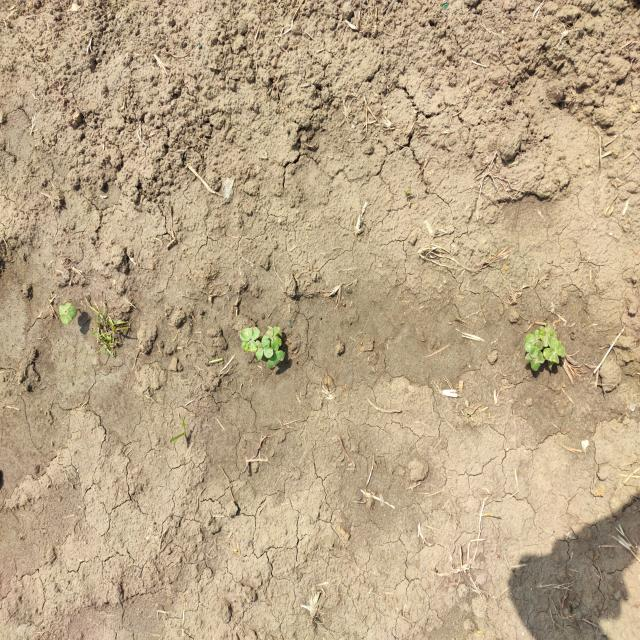seedling: (547, 336, 566, 357), (267, 350, 284, 368), (61, 306, 77, 325), (240, 327, 260, 342), (529, 346, 545, 363), (525, 353, 540, 371), (543, 348, 559, 364), (262, 335, 273, 358), (524, 340, 543, 353), (544, 322, 557, 339), (59, 302, 73, 316), (525, 330, 540, 343), (273, 326, 282, 347), (539, 326, 548, 347), (242, 340, 257, 352), (255, 340, 263, 361), (266, 326, 274, 344), (270, 342, 279, 355)
